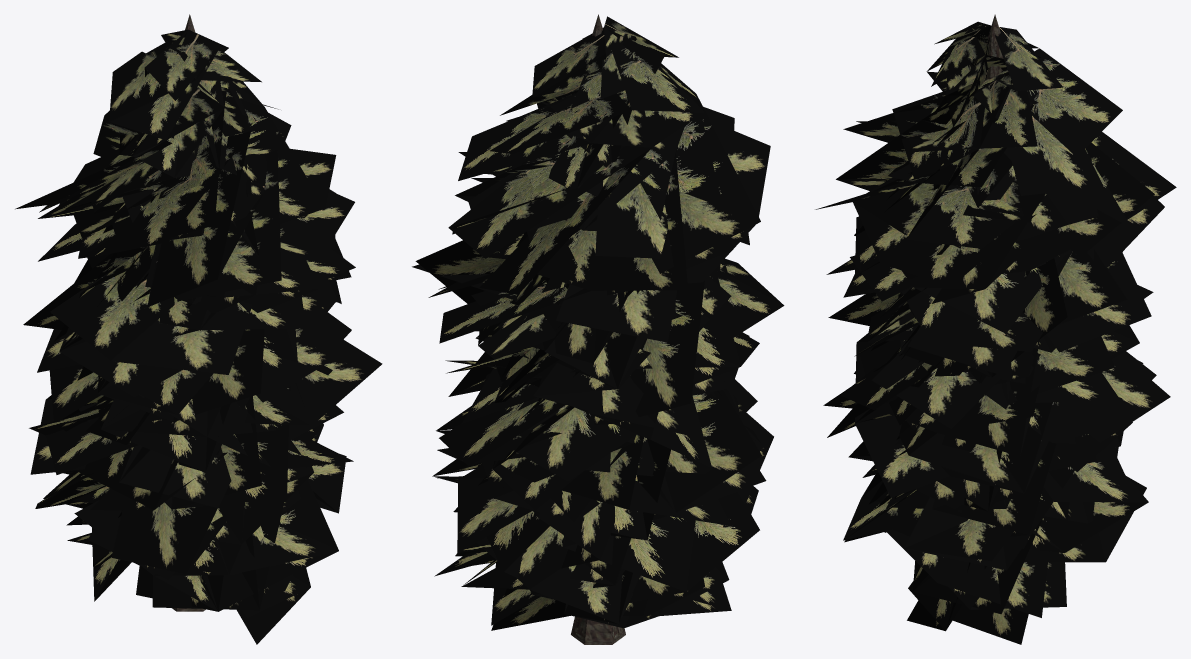
File: Leaves.fbx
The picture shows the model from 3 angles, left to right: view 1: azimuth 30°, elevation 25°; view 2: azimuth 150°, elevation 25°; view 3: azimuth 270°, elevation 25°; orthographic projection. The views are drawn at different scales.
Parts seen in each view (by area): view 1: Leaf; view 2: Leaf; view 3: Leaf.
Part boxes in pixels (bbox=[...]): Leaf: bbox=[15, 14, 382, 644]; Leaf: bbox=[412, 14, 784, 644]; Leaf: bbox=[815, 14, 1176, 644].
Size of the model in its own units: 3125 by 5684 by 3144.
Materials: 2 (2 with a texture image).
